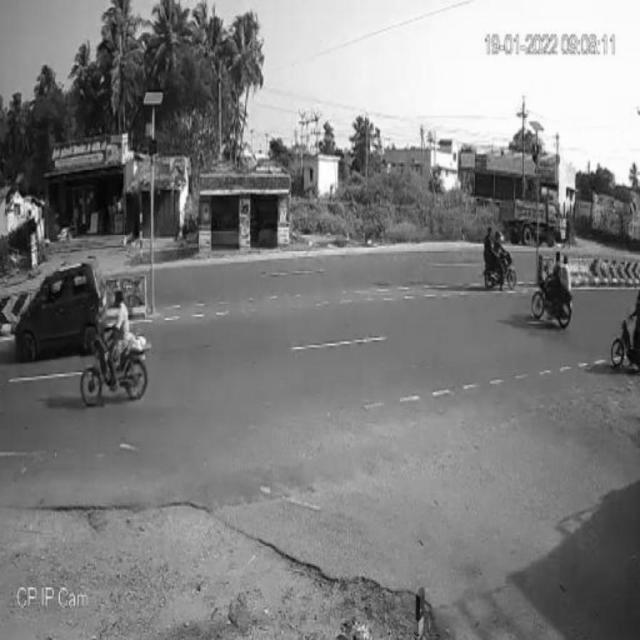vehicle: (14, 258, 108, 356), (80, 281, 152, 407), (528, 256, 575, 330), (604, 294, 640, 375), (477, 227, 517, 295)
